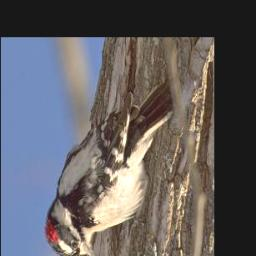Woodpecker: (43, 79, 173, 256)
